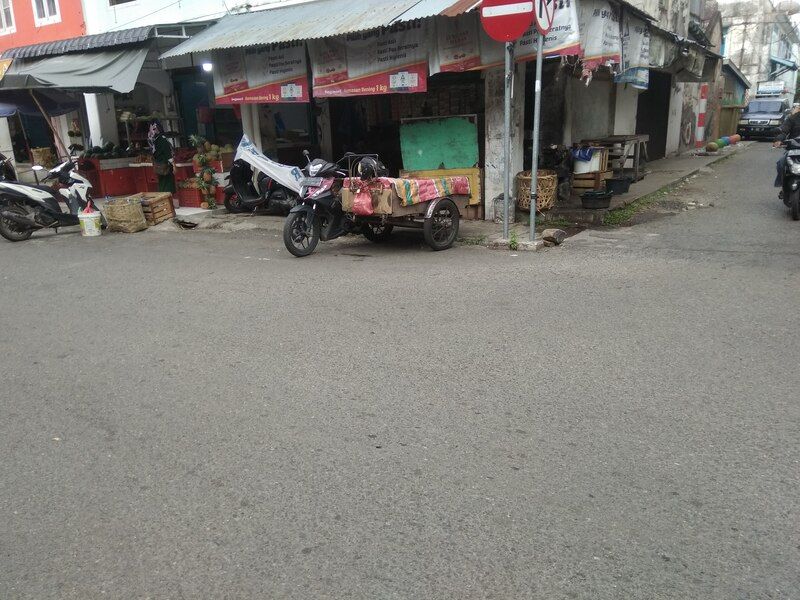becak barang: (281, 156, 473, 263)
